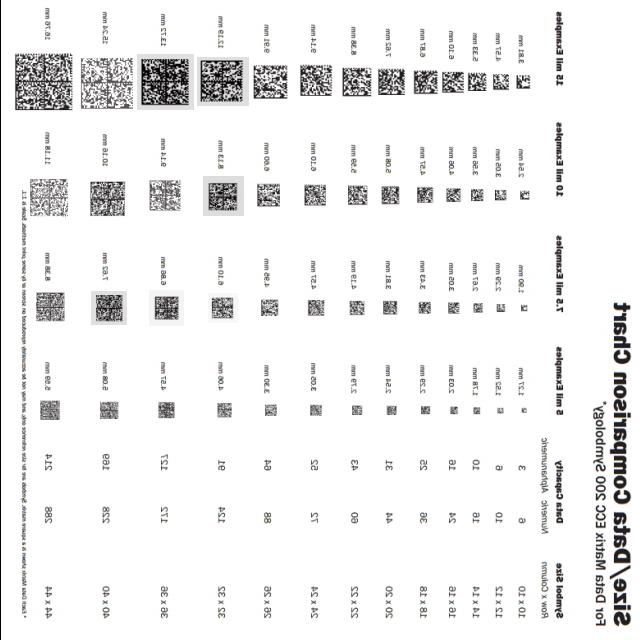DataMatrix: (12, 50, 76, 114), (76, 53, 140, 113), (136, 54, 193, 110), (196, 57, 248, 106), (26, 173, 74, 220), (84, 174, 133, 220), (142, 174, 185, 218), (202, 176, 243, 216), (30, 289, 70, 326), (148, 290, 183, 326), (90, 291, 126, 325), (207, 293, 237, 323)
